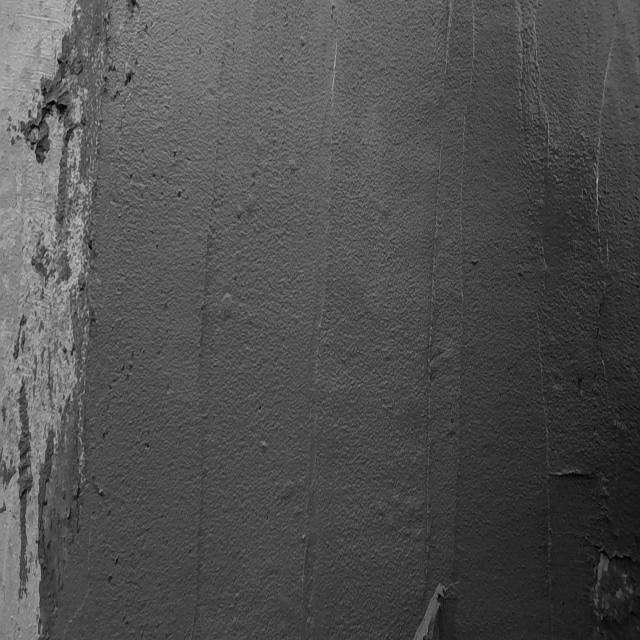trowels marks: (419, 10, 476, 609)
